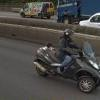Motorcycle: (18, 36, 100, 99)
